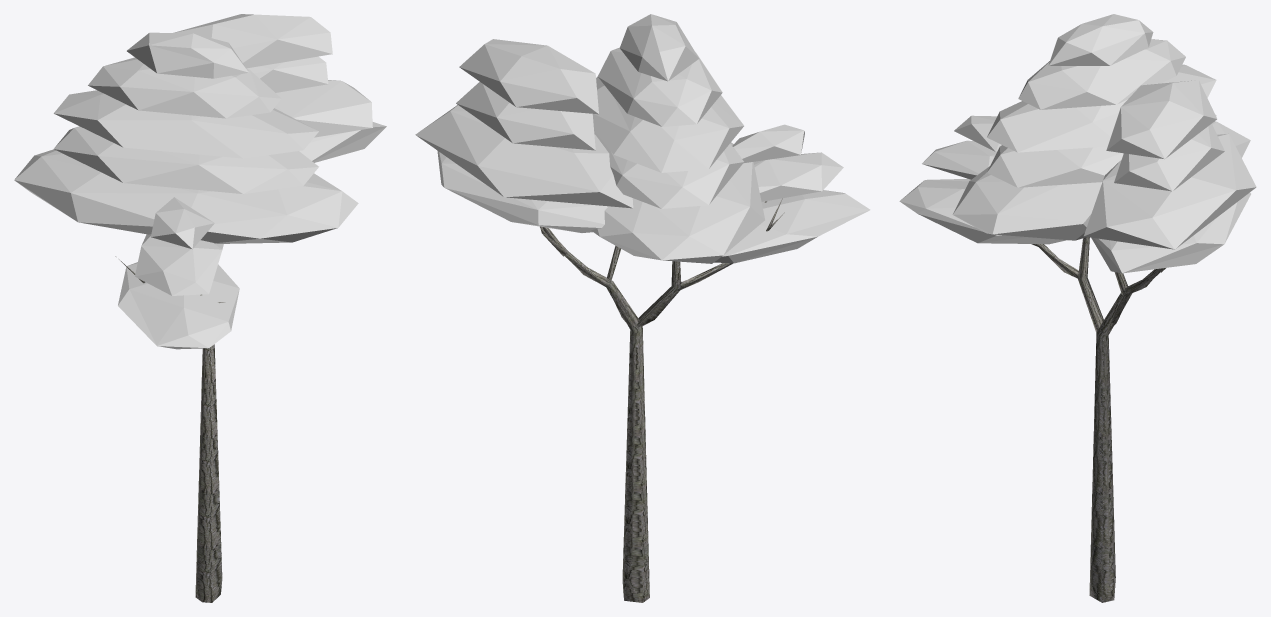
File: tree1.glb
3 views of the same model, side by side, from view 1: azimuth 30°, elevation 25°; view 2: azimuth 150°, elevation 25°; view 3: azimuth 270°, elevation 25° (orthographic). The views are drawn at different scales.
Parts seen in each view (by area): view 1: Leaves, Tree; view 2: Leaves, Tree; view 3: Leaves, Tree.
Part boxes in pixels (box(x1,y1,x2,y2)): Leaves: box(14, 14, 386, 349); Tree: box(115, 256, 225, 602); Leaves: box(415, 14, 870, 263); Tree: box(540, 198, 784, 602); Leaves: box(899, 14, 1256, 273); Tree: box(1031, 237, 1165, 602).
Size of the model in its own units: 12.67 by 20.86 by 11.99.
Materials: 1 (1 with a texture image).
